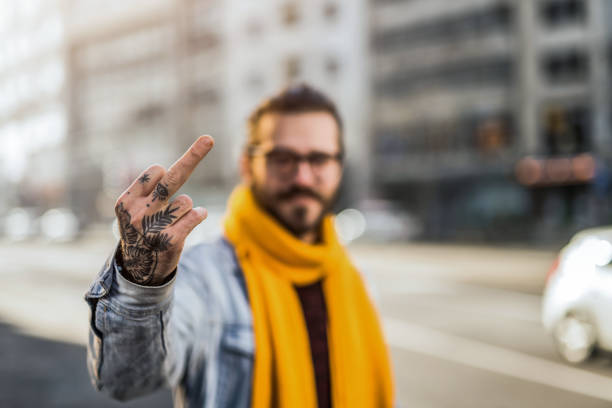insulting_gesture: (106, 133, 218, 268)
